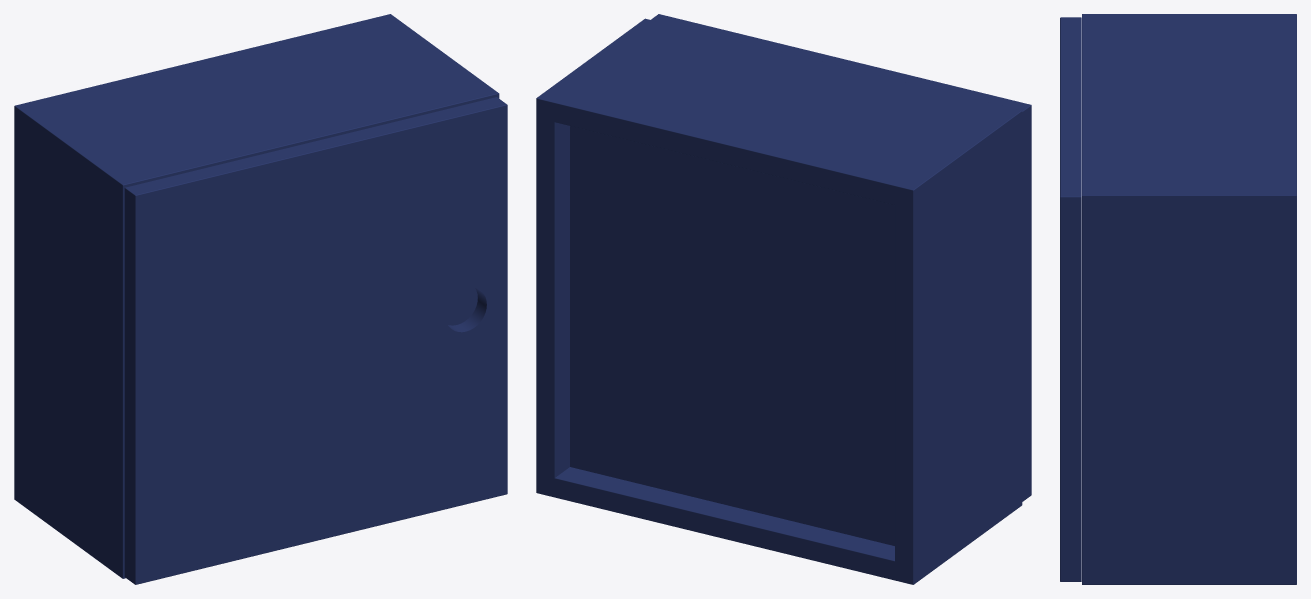
Rendered from MODH_1X1_D_B_DER_AF.glb.
3 renders of one model, left to right at view 1: azimuth 30°, elevation 25°; view 2: azimuth 150°, elevation 25°; view 3: azimuth 270°, elevation 25°, orthographic.
Bounding box in the file's own units: 360 × 360 × 198.
